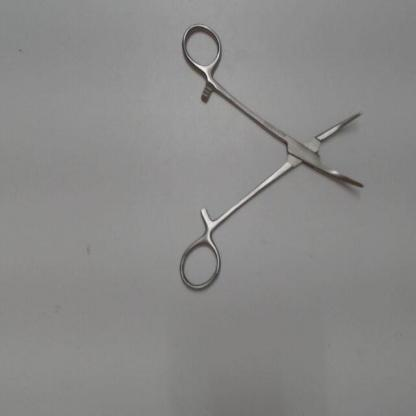Crile Artery Forceps: (177, 19, 370, 300)
